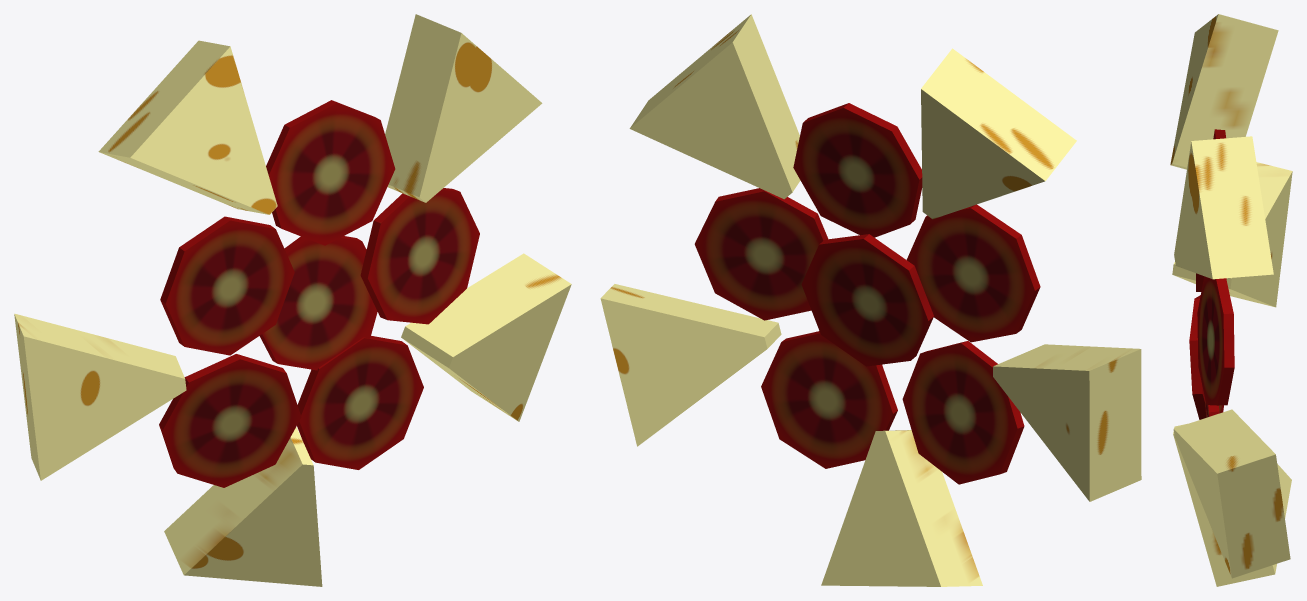
Rendered from MixCT.fbx.
The picture shows the model from 3 angles, left to right: view 1: azimuth 30°, elevation 25°; view 2: azimuth 150°, elevation 25°; view 3: azimuth 270°, elevation 25°; orthographic projection. The views are drawn at different scales.
Visible parts, largest first — view 1: Cutcheese.003; view 2: Cutcheese.003; view 3: Cutcheese.003.
Part boxes in pixels (x1,y1,x2,y2): Cutcheese.003: (14, 14, 571, 586); Cutcheese.003: (600, 14, 1141, 586); Cutcheese.003: (1170, 14, 1292, 586).
Size of the model in its own units: 0.9031 by 0.9001 by 0.188.
Materials: 1 (1 with a texture image).
